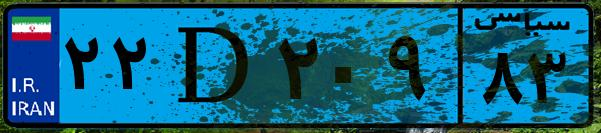0: (330, 28, 385, 110)
2: (270, 28, 330, 110), (57, 26, 110, 100), (110, 28, 158, 98)
3: (525, 38, 570, 115)
8: (475, 38, 525, 113)
9: (385, 28, 445, 110)
D: (158, 12, 270, 120)
